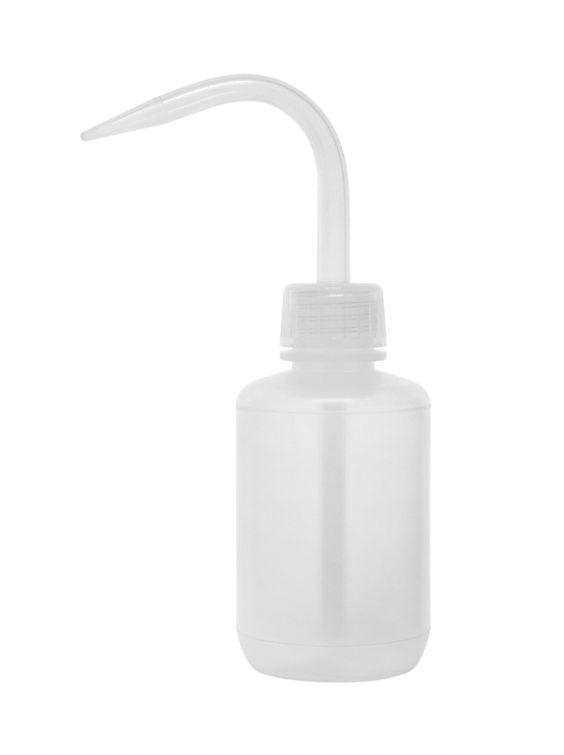LDPE: (0, 0, 554, 755)
